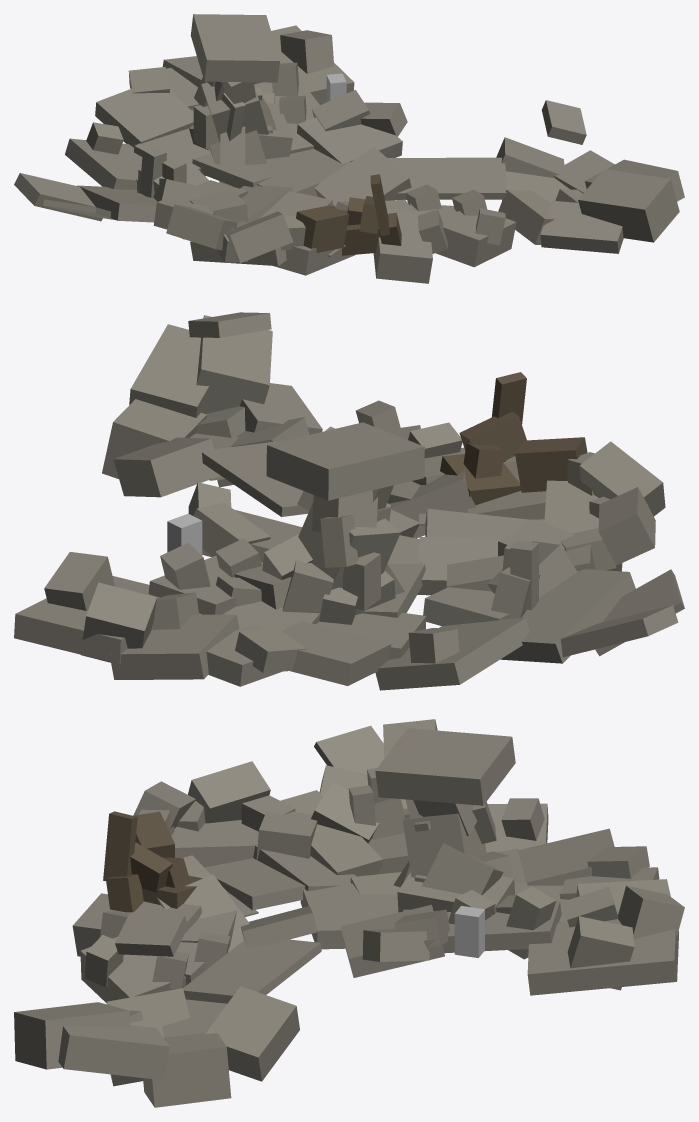
File: CleanupRubbleButterfly.fbx
3 renders of one model, top to bottom at view 1: azimuth 30°, elevation 25°; view 2: azimuth 150°, elevation 25°; view 3: azimuth 270°, elevation 25°, orthographic. The views are drawn at different scales.
Parts seen in each view (by area): view 1: Floor_03__247_, Floor_03__216_, Floor_03__212_, Floor_03__190_, Floor_03__215_, Floor_03__200_, Floor_03__203_, Floor_03__189_, Floor_03__202_, Floor_03__178_, Floor_03__196_, Floor_03__242_ (+50 smaller); view 2: Floor_03__247_, Floor_03__177_, Floor_03__178_, Floor_03__191_, Floor_03__216_, Floor_03__214_, Floor_03__211_, Floor_03__190_, Floor_03__188_, Floor_03__212_, Floor_03__233_, Floor_03__262_ (+55 smaller); view 3: Floor_03__247_, Floor_03__188_, Floor_03__211_, Floor_03__214_, Floor_03__212_, Floor_03__233_, Floor_03__216_, Floor_03__196_, Floor_03__190_, Floor_03__174_, Floor_03__241_, Floor_03__184_ (+51 smaller).
Boxes of the visible parts, <box> form: Floor_03__247_: <box>190,14,279,82</box>; Floor_03__216_: <box>578,169,679,242</box>; Floor_03__212_: <box>387,157,506,199</box>; Floor_03__190_: <box>95,88,193,147</box>; Floor_03__215_: <box>540,200,623,253</box>; Floor_03__200_: <box>314,146,411,207</box>; Floor_03__203_: <box>373,208,432,283</box>; Floor_03__189_: <box>297,117,402,163</box>; Floor_03__202_: <box>435,211,516,267</box>; Floor_03__178_: <box>65,138,142,189</box>; Floor_03__196_: <box>233,149,350,196</box>; Floor_03__242_: <box>225,211,293,262</box>; Floor_03__247_: <box>266,422,424,500</box>; Floor_03__177_: <box>500,569,635,663</box>; Floor_03__178_: <box>375,617,529,690</box>; Floor_03__191_: <box>109,614,239,679</box>; Floor_03__216_: <box>196,315,272,413</box>; Floor_03__214_: <box>129,324,209,417</box>; Floor_03__211_: <box>113,437,220,497</box>; Floor_03__190_: <box>281,621,391,685</box>; Floor_03__188_: <box>14,576,159,663</box>; Floor_03__212_: <box>202,441,308,516</box>; Floor_03__233_: <box>102,399,206,478</box>; Floor_03__262_: <box>81,582,156,662</box>; Floor_03__247_: <box>375,728,515,805</box>; Floor_03__188_: <box>527,919,678,995</box>; Floor_03__211_: <box>205,986,299,1081</box>; Floor_03__214_: <box>58,1025,169,1080</box>; Floor_03__212_: <box>183,939,321,1003</box>; Floor_03__233_: <box>143,1032,231,1107</box>; Floor_03__216_: <box>14,1002,129,1069</box>; Floor_03__196_: <box>300,883,398,949</box>; Floor_03__190_: <box>518,828,614,885</box>; Floor_03__174_: <box>280,790,382,876</box>; Floor_03__241_: <box>188,761,270,823</box>; Floor_03__184_: <box>205,858,305,910</box>.
Size of the model in its own units: 4834 by 1511 by 4453.
